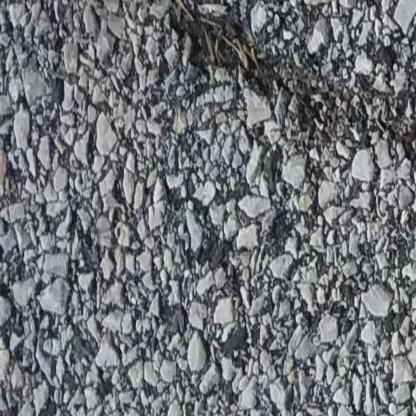Cracks: (153, 0, 416, 166)
